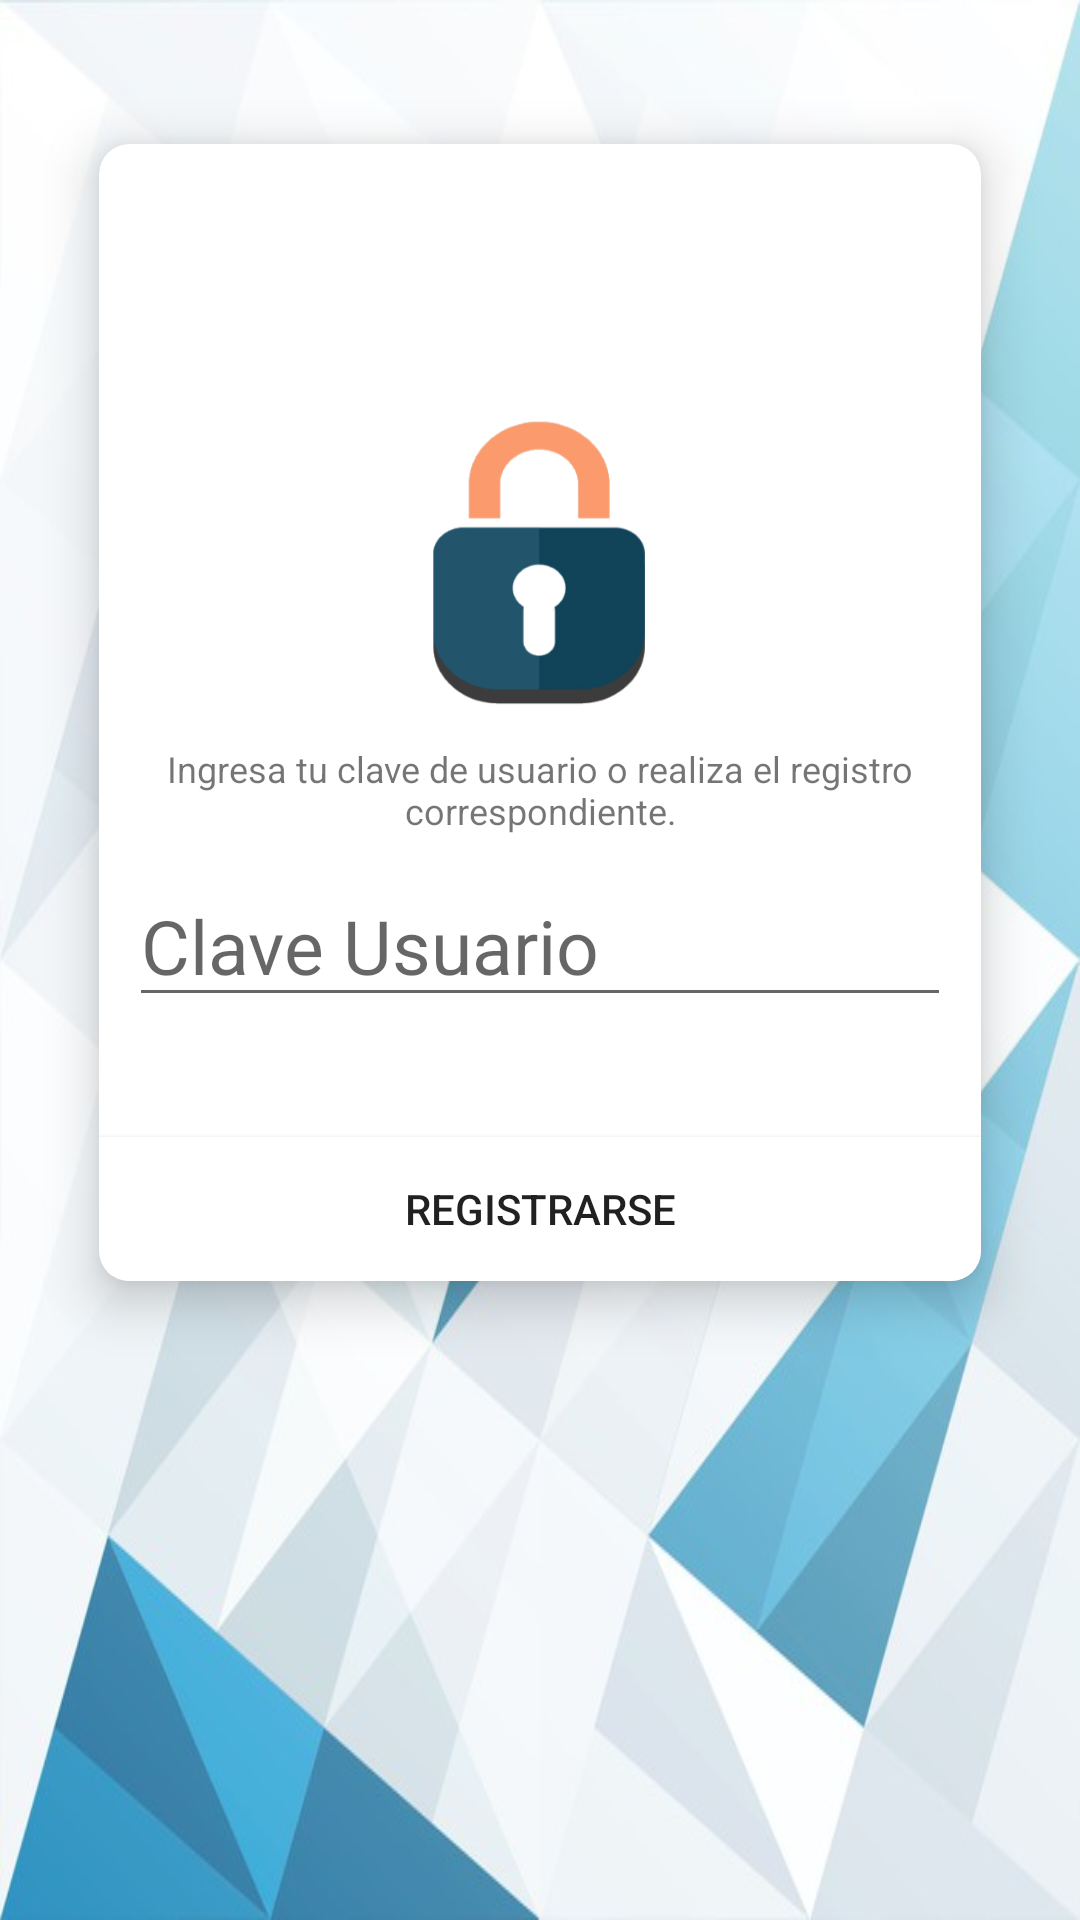

Icons on this 1080x1920 Android screen, each with its box as (x1, y1, x2, y2):
candado: (433, 421, 645, 704)
